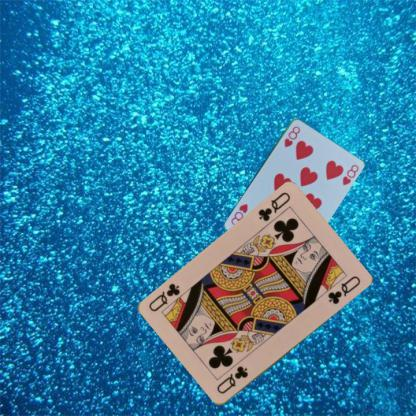8h: (282, 123, 302, 149)
Qc: (255, 190, 292, 223), (214, 363, 249, 396)
